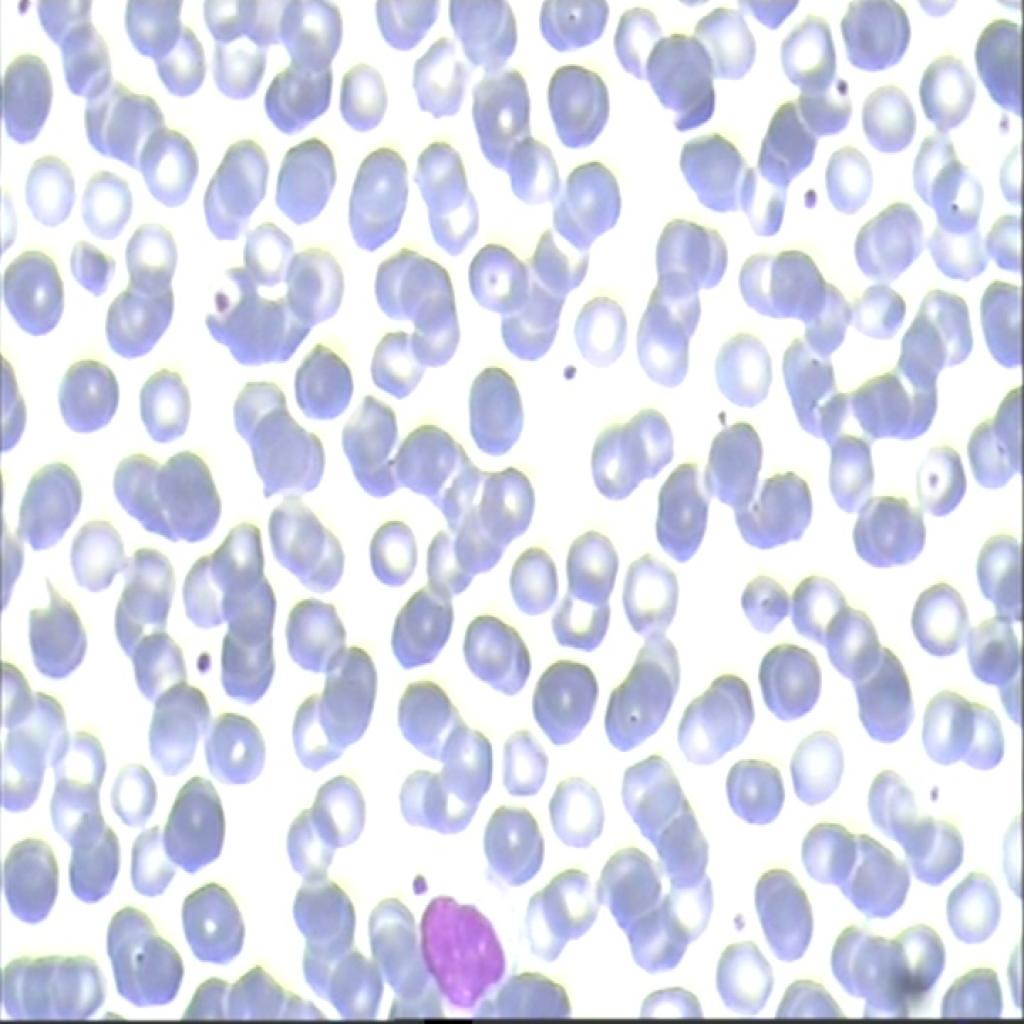Limfosit: (415, 889, 515, 1004)
Platelet: (395, 860, 438, 910), (544, 345, 584, 393), (185, 649, 220, 693), (982, 100, 1012, 146), (824, 73, 858, 107), (796, 176, 824, 217), (206, 279, 229, 317)
